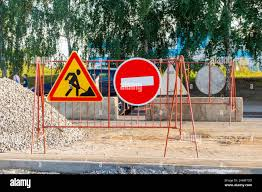No entry: (113, 58, 161, 107)
